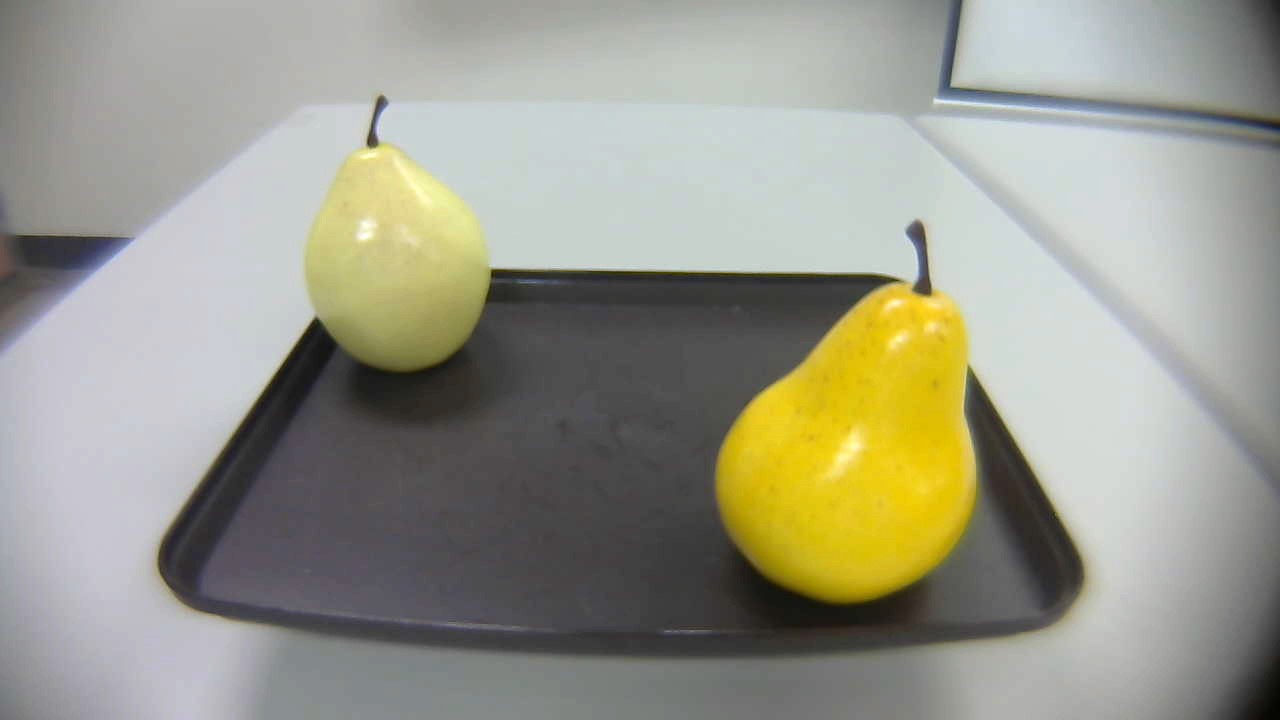western pear: (299, 85, 497, 374)
yellow pear: (694, 200, 1005, 605)
